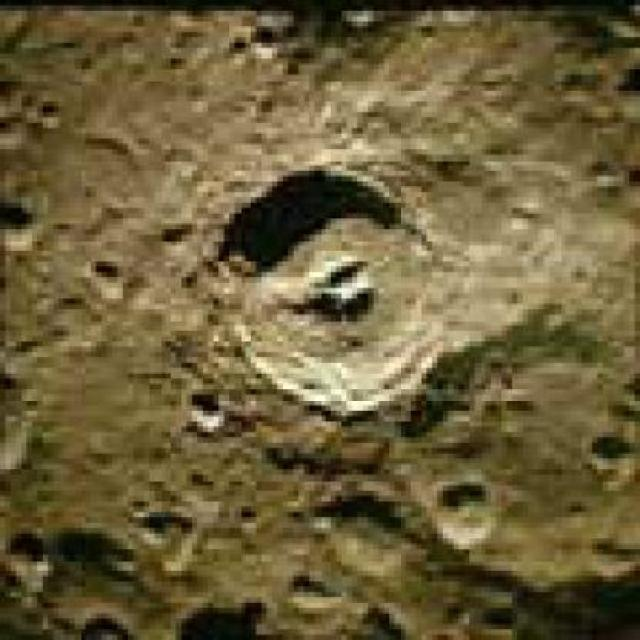crater: (225, 169, 446, 402)
